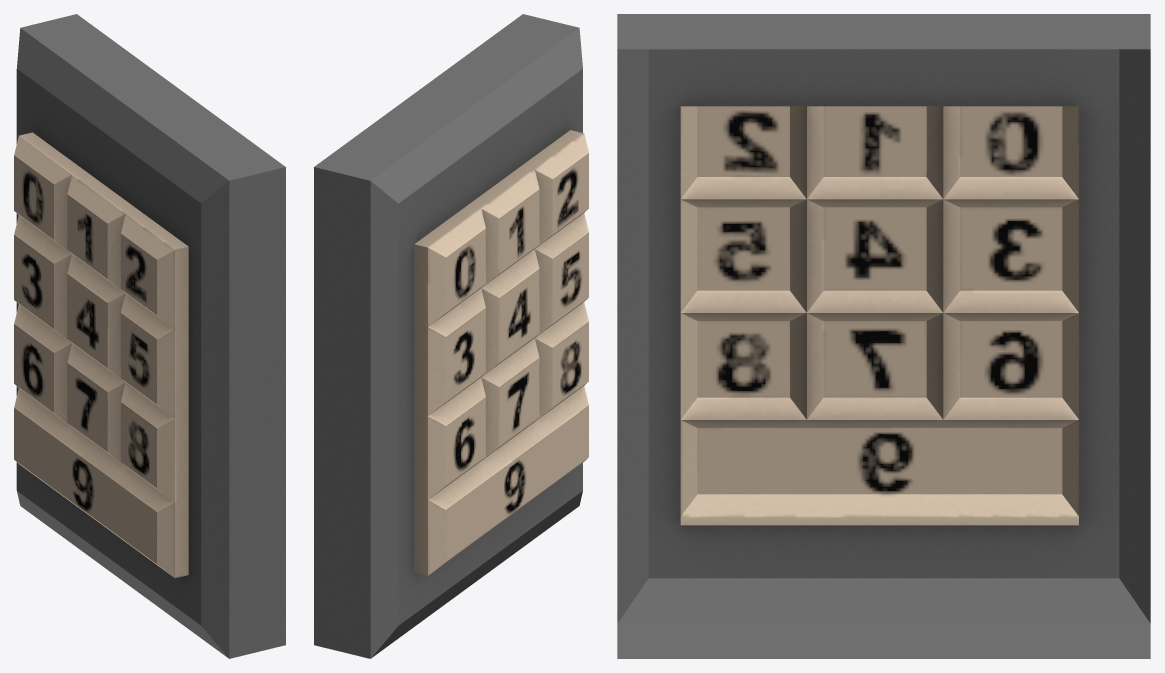
The model's file is Prop_Codedoor.fbx.
The picture shows the model from 3 angles, left to right: view 1: azimuth 30°, elevation 25°; view 2: azimuth 150°, elevation 25°; view 3: azimuth 270°, elevation 25°; orthographic projection. The views are drawn at different scales.
Parts seen in each view (by area): view 1: Prop_Codedoor; view 2: Prop_Codedoor; view 3: Prop_Codedoor.
Part boxes in pixels (x1,y1,x2,y2): Prop_Codedoor: (14,14,285,658); Prop_Codedoor: (314,14,588,658); Prop_Codedoor: (617,14,1150,658).
Size of the model in its own units: 0.1442 by 0.6768 by 0.5363.
1 material, 1 textured.
